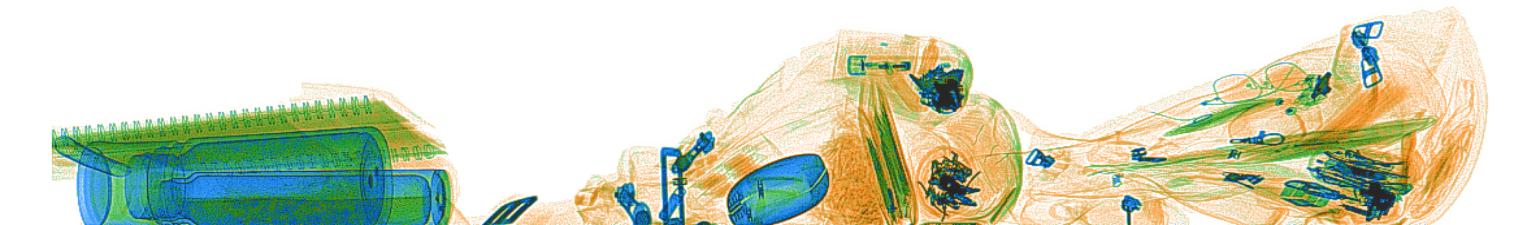lighter: (845, 51, 963, 78)
